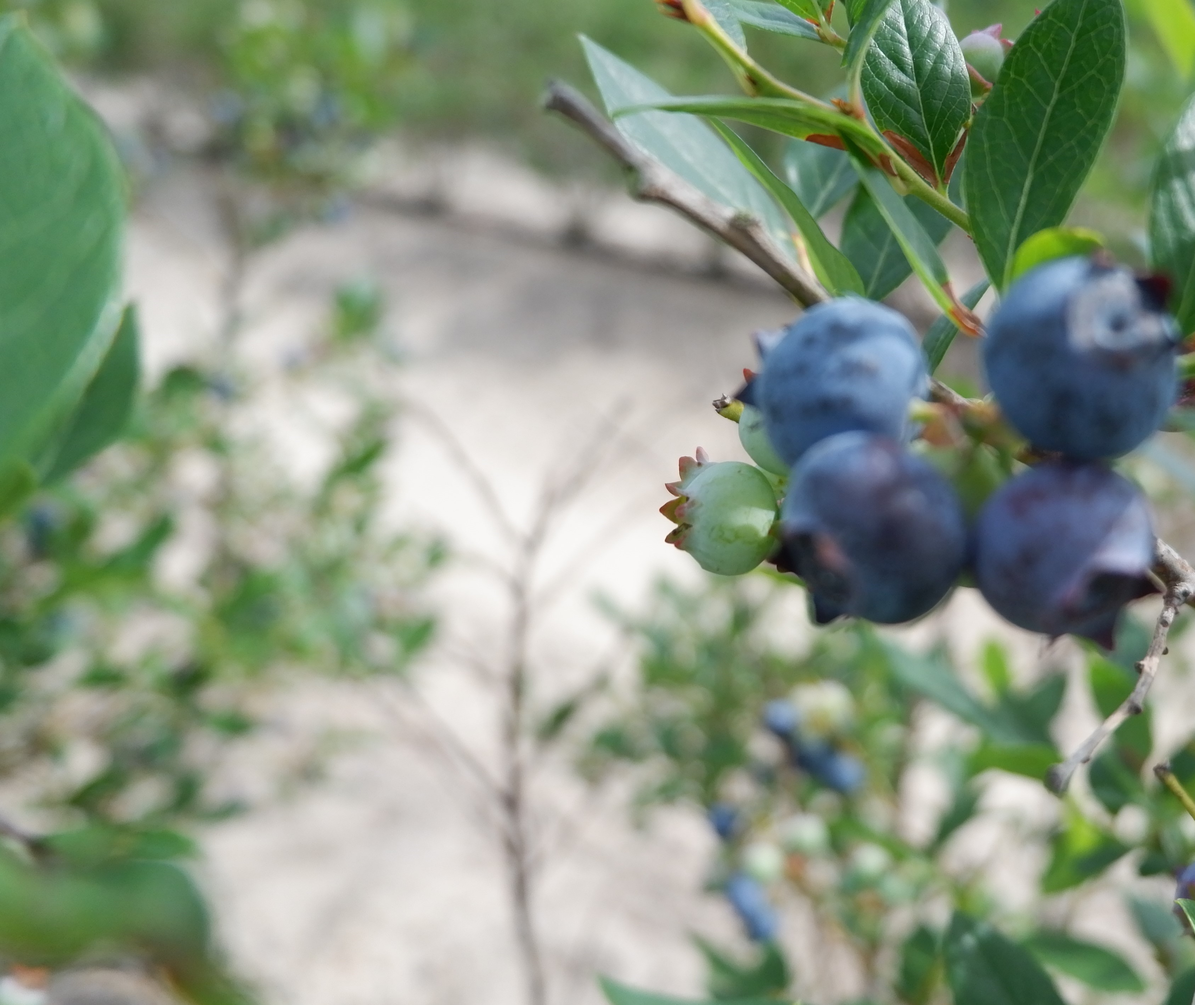Immature: (669, 455, 780, 574), (740, 405, 787, 474), (965, 23, 1012, 81)
Mature: (995, 253, 1179, 454), (783, 437, 972, 621), (979, 464, 1156, 637), (749, 300, 927, 462)
